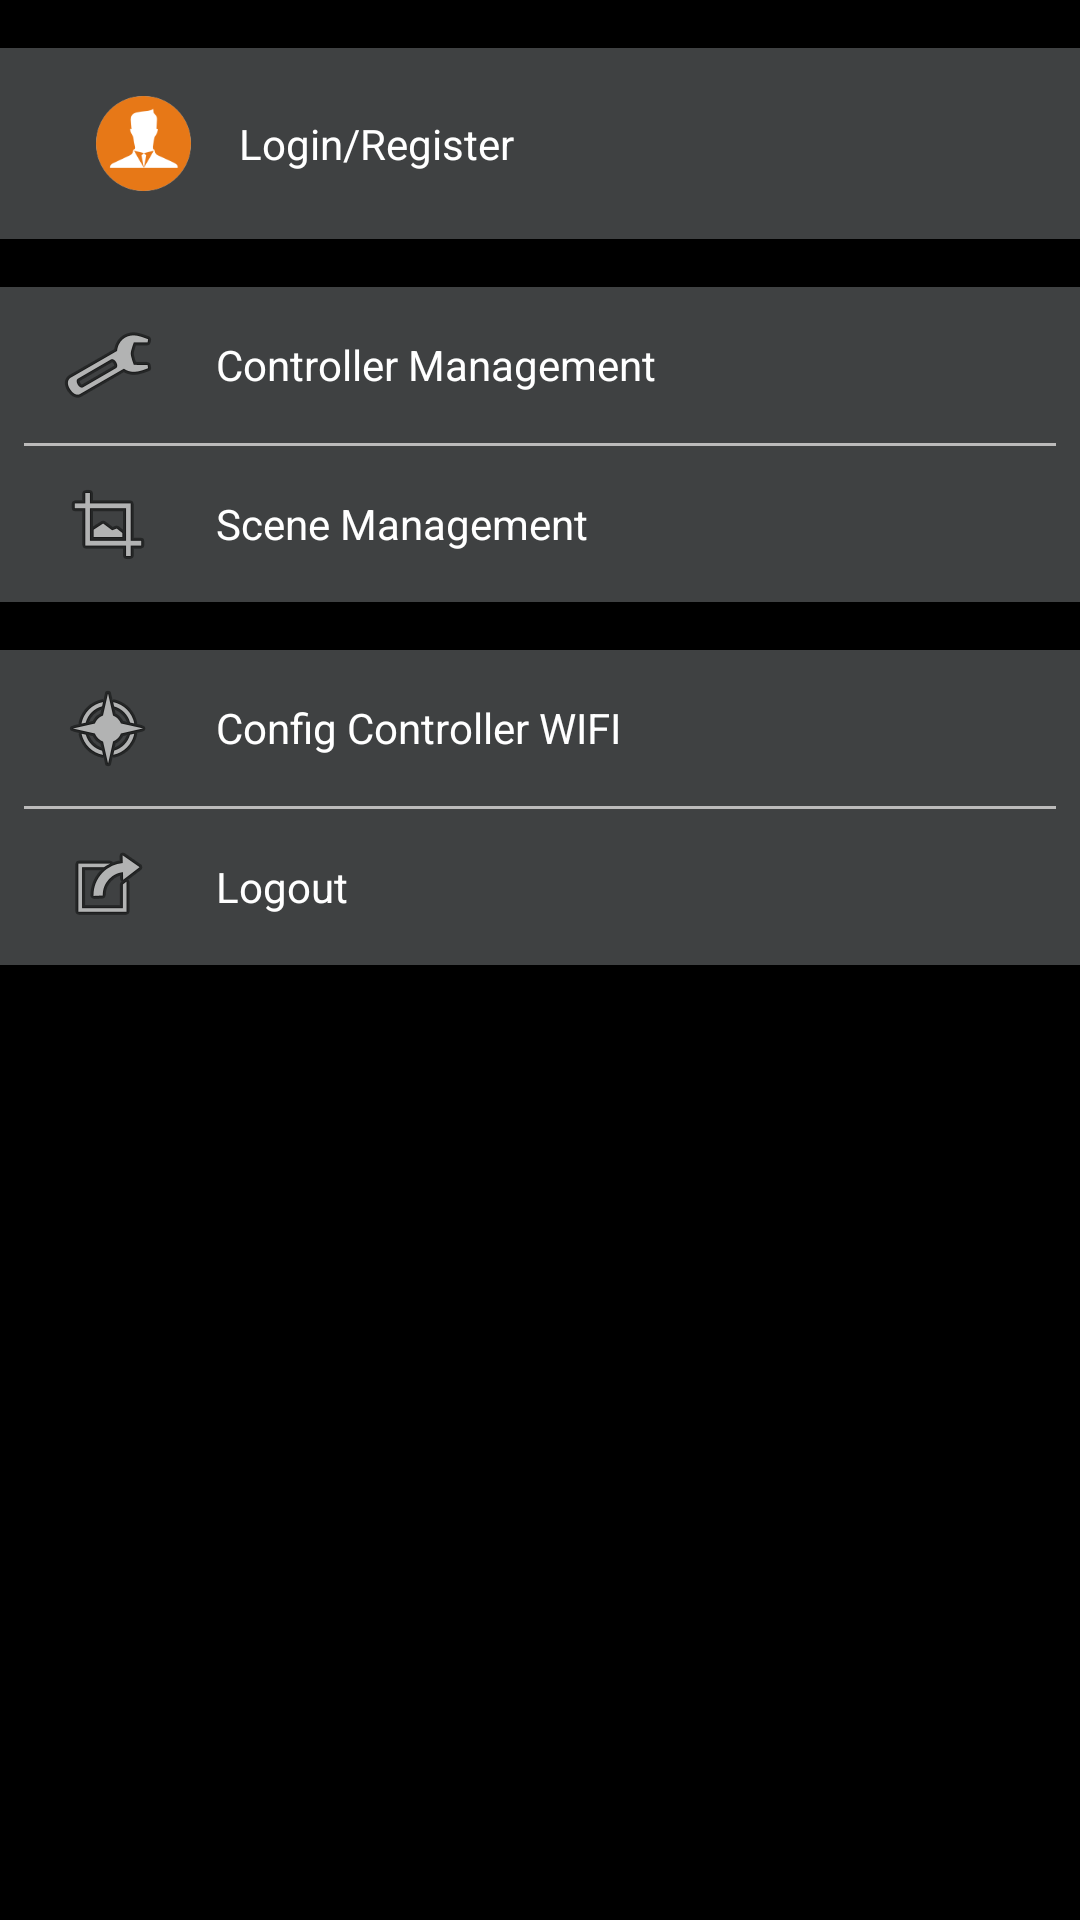

Point at icon controls on the screen. Image size 1080px x 1920px, points as point (x, y).
compass: point (107, 728)
crop: point (108, 524)
set as: point (109, 883)
user: point (143, 143)
